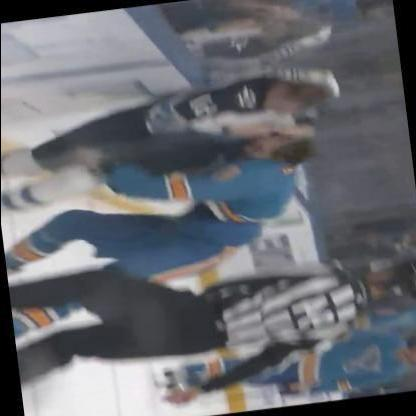non-Voilence: (9, 247, 416, 395)
voilence: (1, 66, 354, 303)
